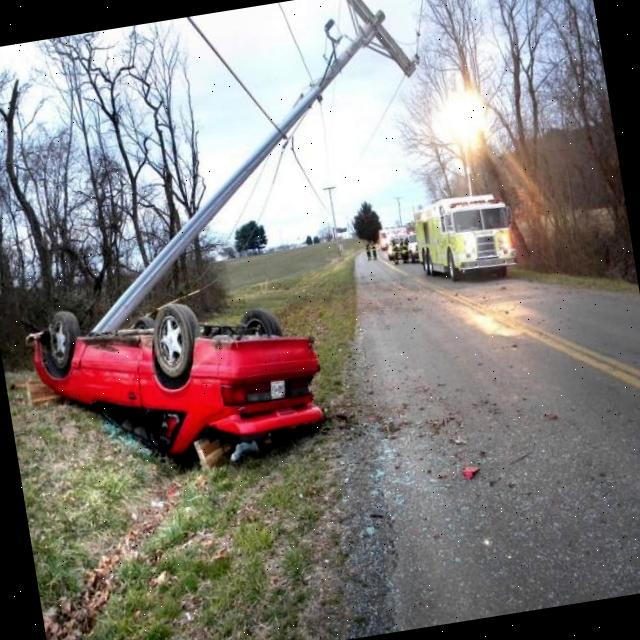Broken Pole: (91, 0, 428, 335)
